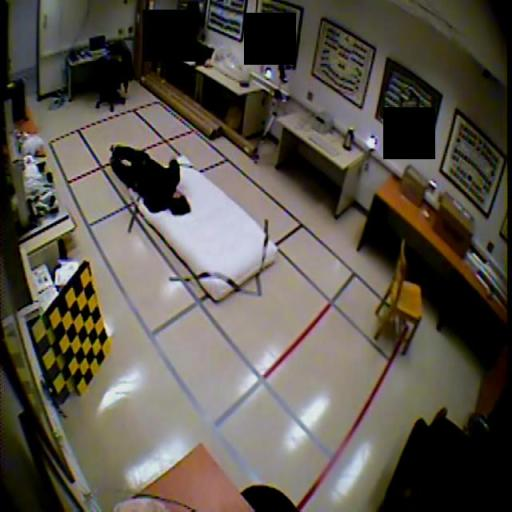Fall: (110, 143, 192, 220)
